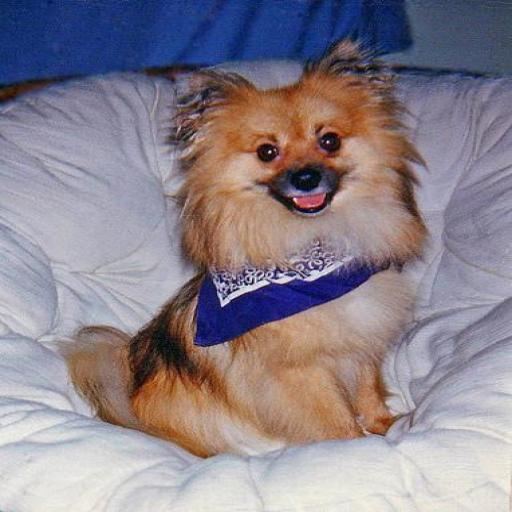dog_face: (178, 61, 376, 221)
